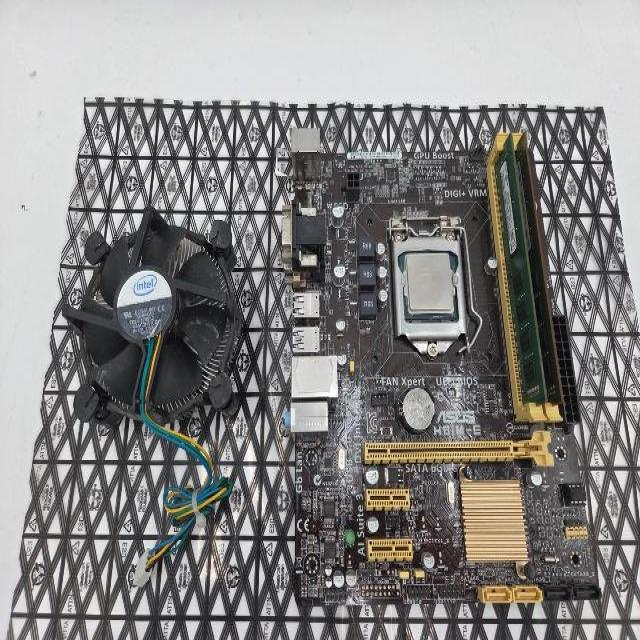CPU: (400, 250, 458, 322)
CPU_Fan: (58, 202, 246, 437)
RAM: (492, 130, 552, 407)
